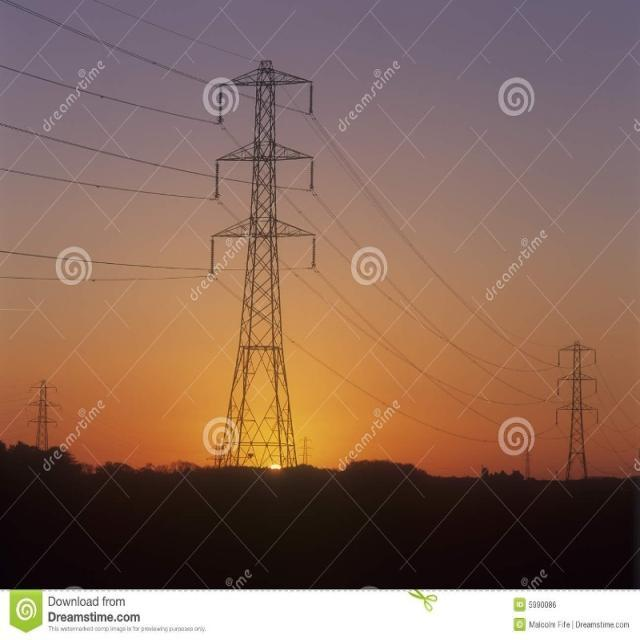non-critical vegetation: (206, 65, 314, 478), (549, 338, 608, 483), (27, 374, 59, 466)
